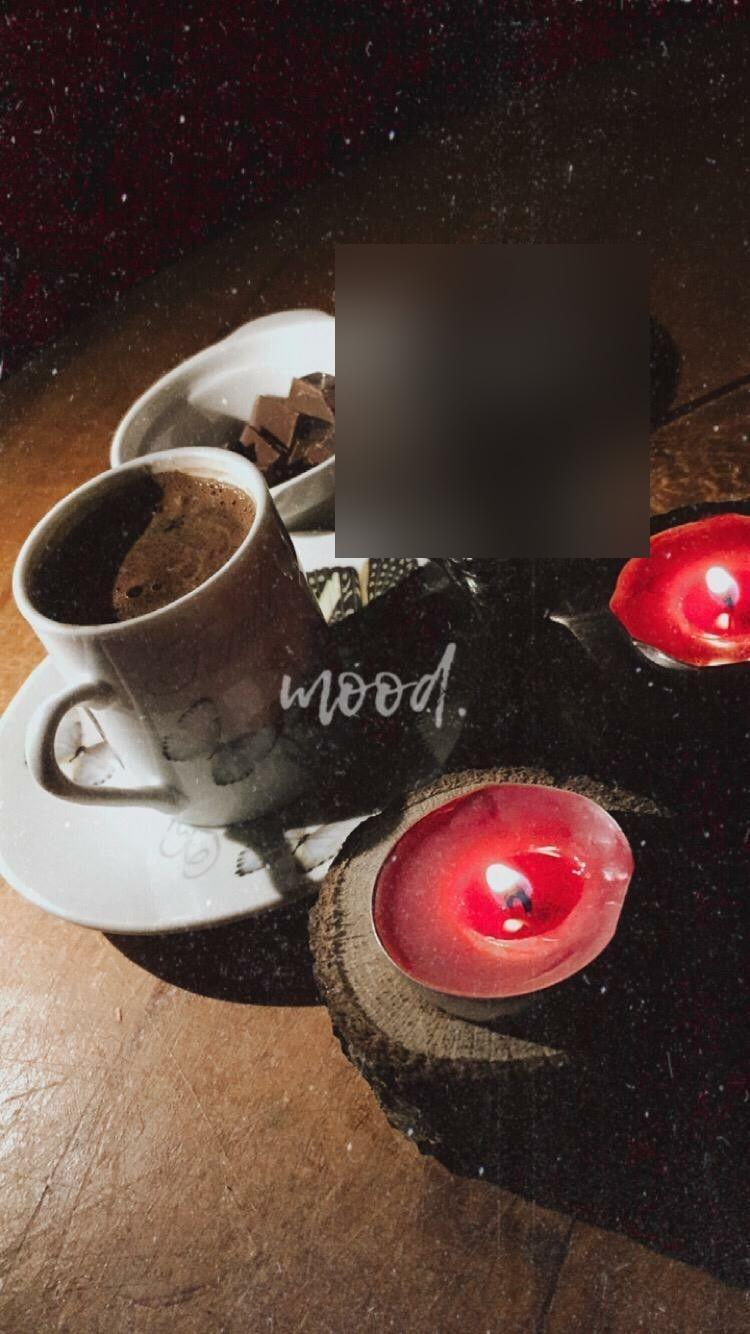cup-handle: (10, 442, 332, 831)
